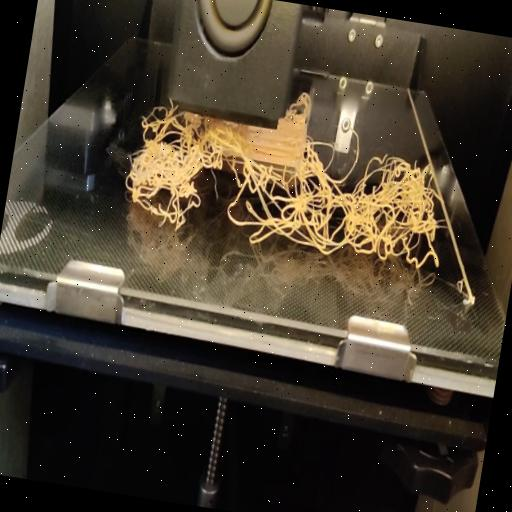spaghetti: (117, 102, 457, 274), (287, 90, 315, 130)
